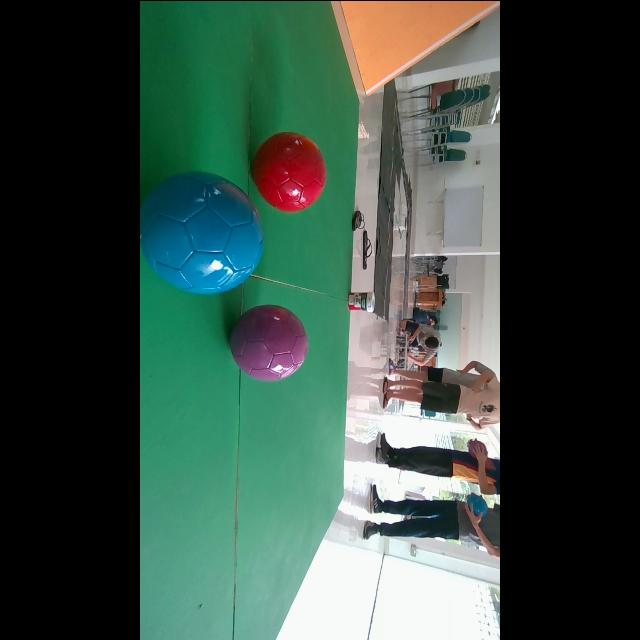B: (141, 171, 264, 294), (468, 494, 488, 516)
P: (230, 304, 308, 381)
R: (252, 132, 327, 212)
